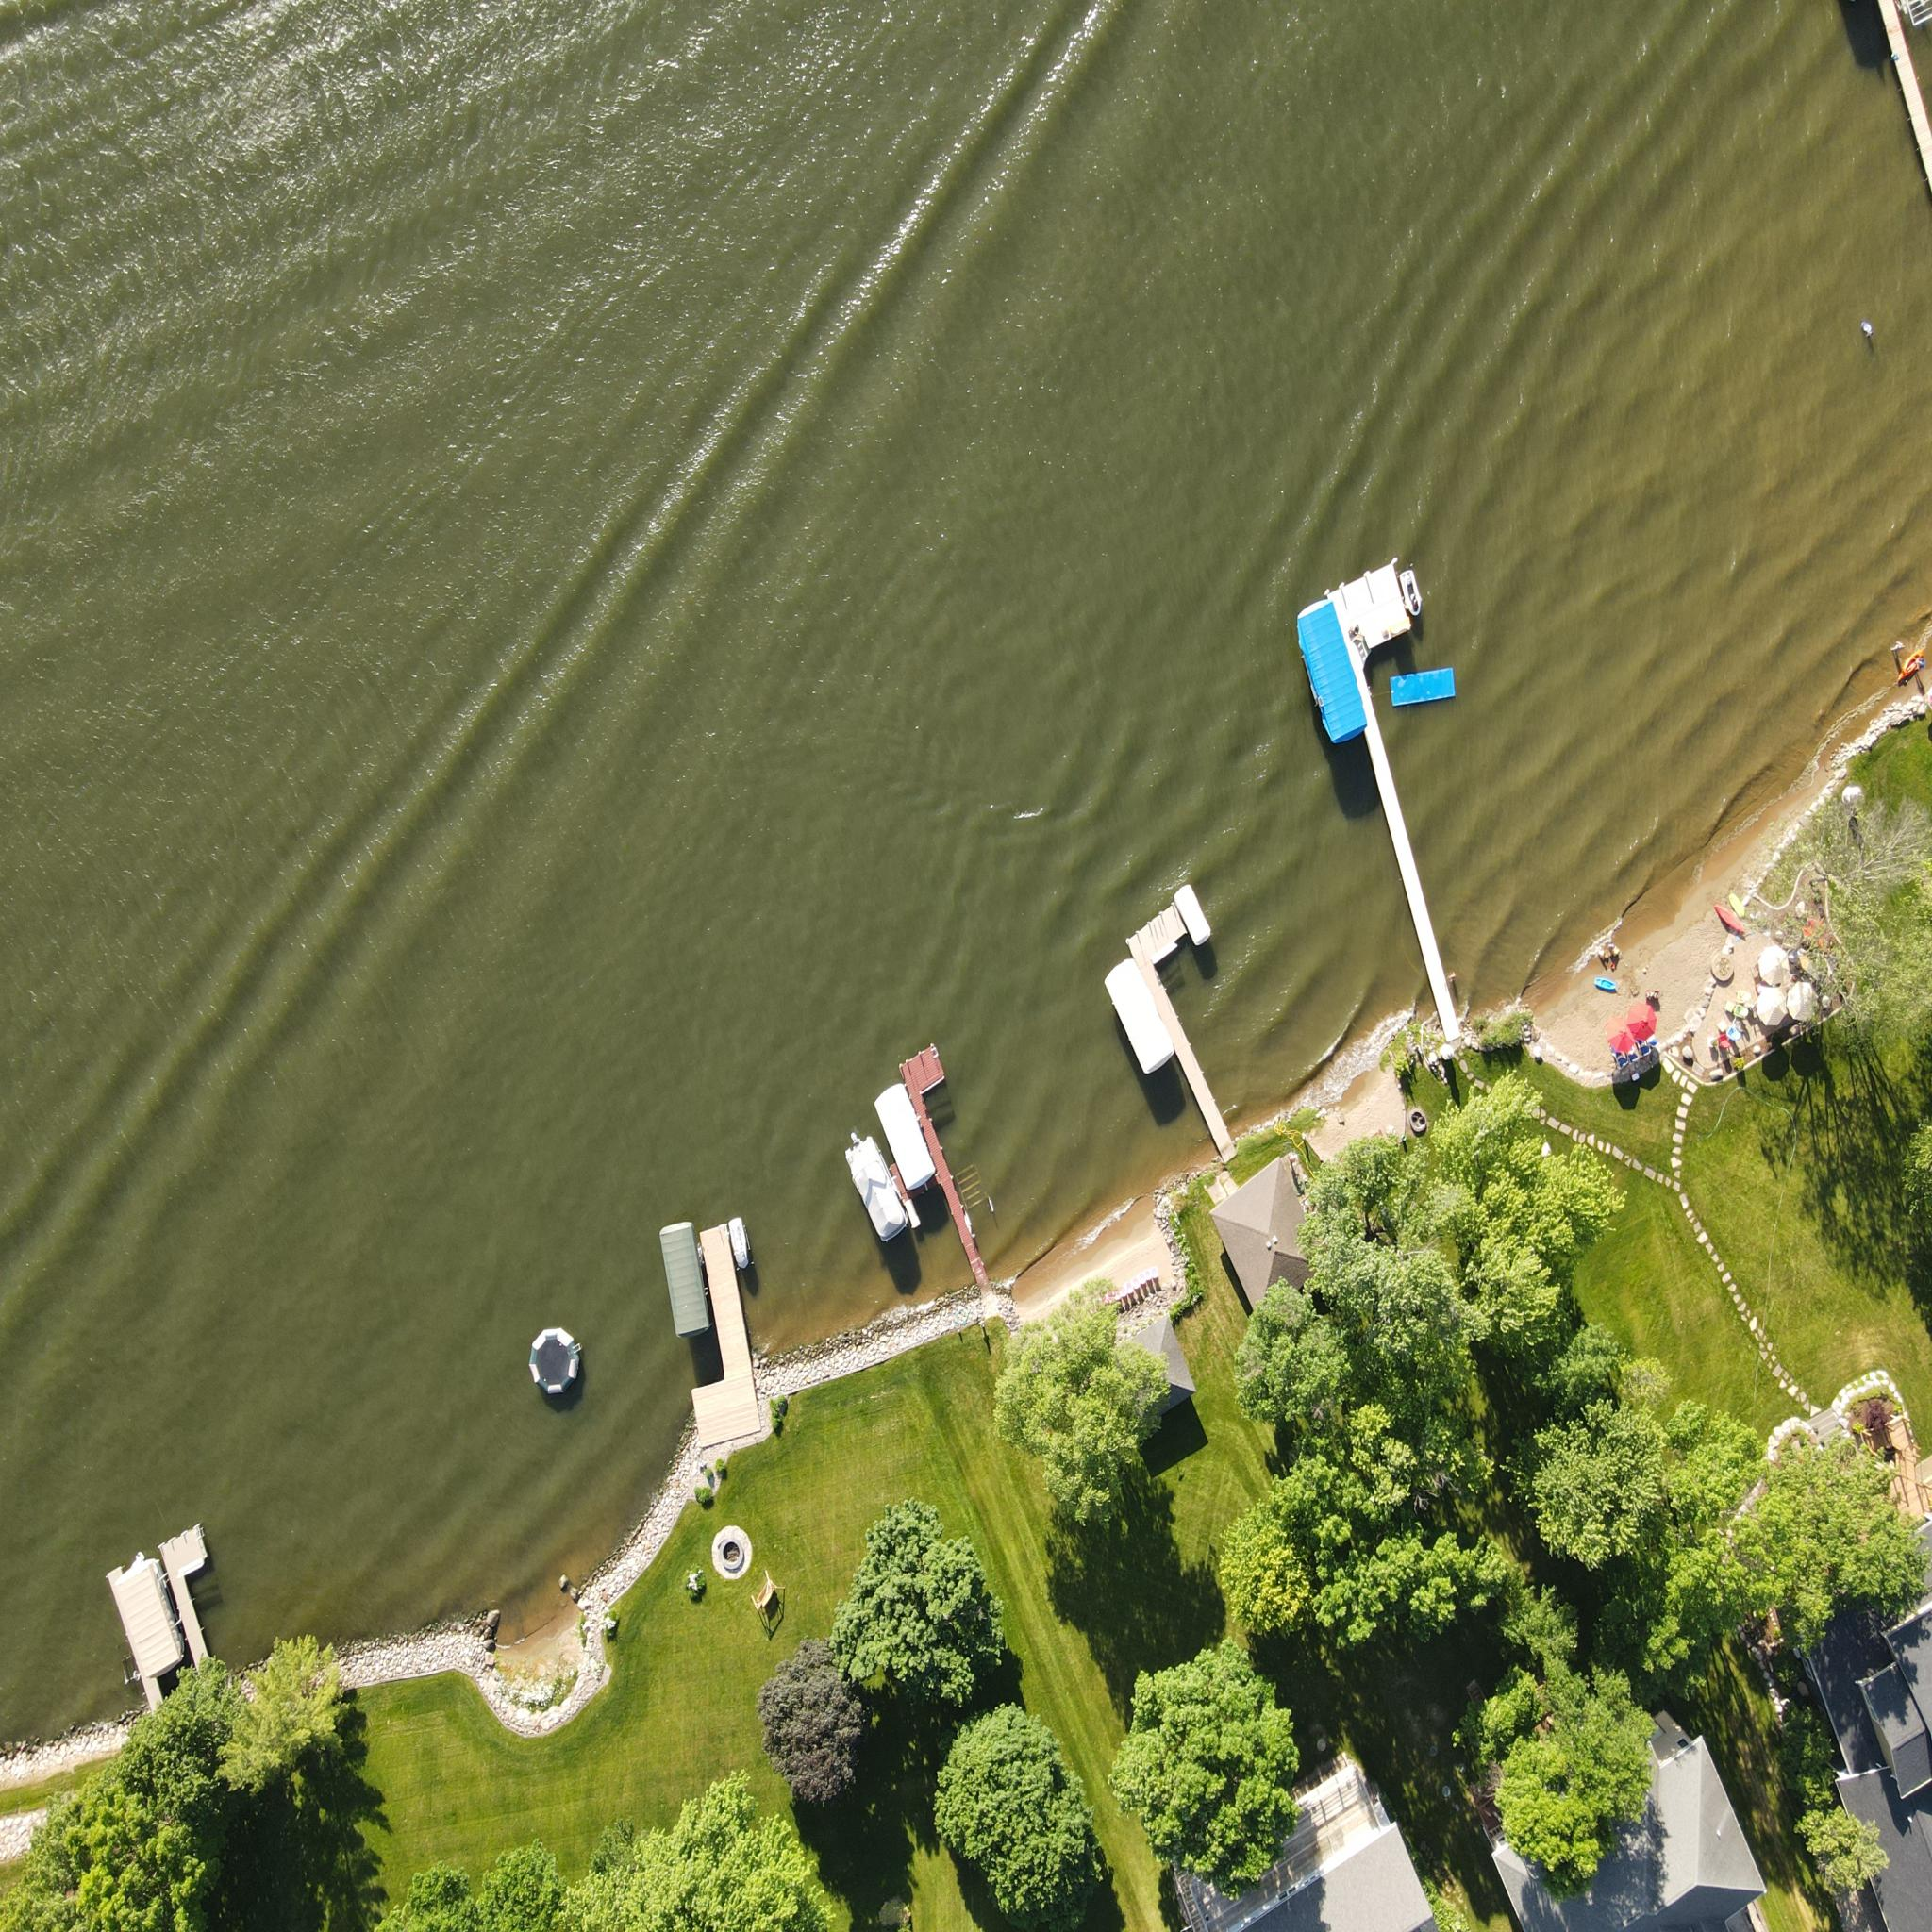dock: (1329, 561, 1463, 1051), (1127, 902, 1238, 1177), (902, 1039, 991, 1299), (690, 1219, 763, 1447), (161, 1523, 226, 1691), (104, 1559, 163, 1721)
jetski: (727, 1214, 757, 1269), (1399, 564, 1422, 617)
lift: (1299, 591, 1369, 768), (1106, 947, 1177, 1077), (840, 1123, 906, 1247), (113, 1553, 179, 1675), (872, 1070, 938, 1192), (656, 1208, 709, 1346), (1177, 881, 1214, 943)
